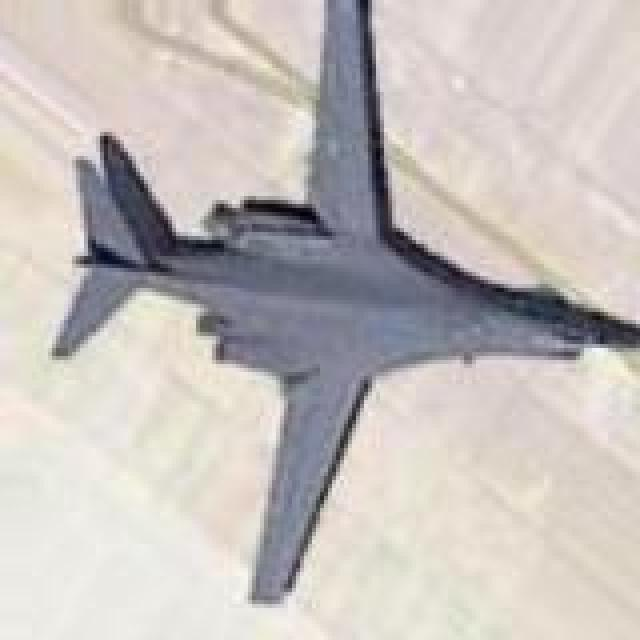B-1_TopDown: (44, 0, 636, 604)
